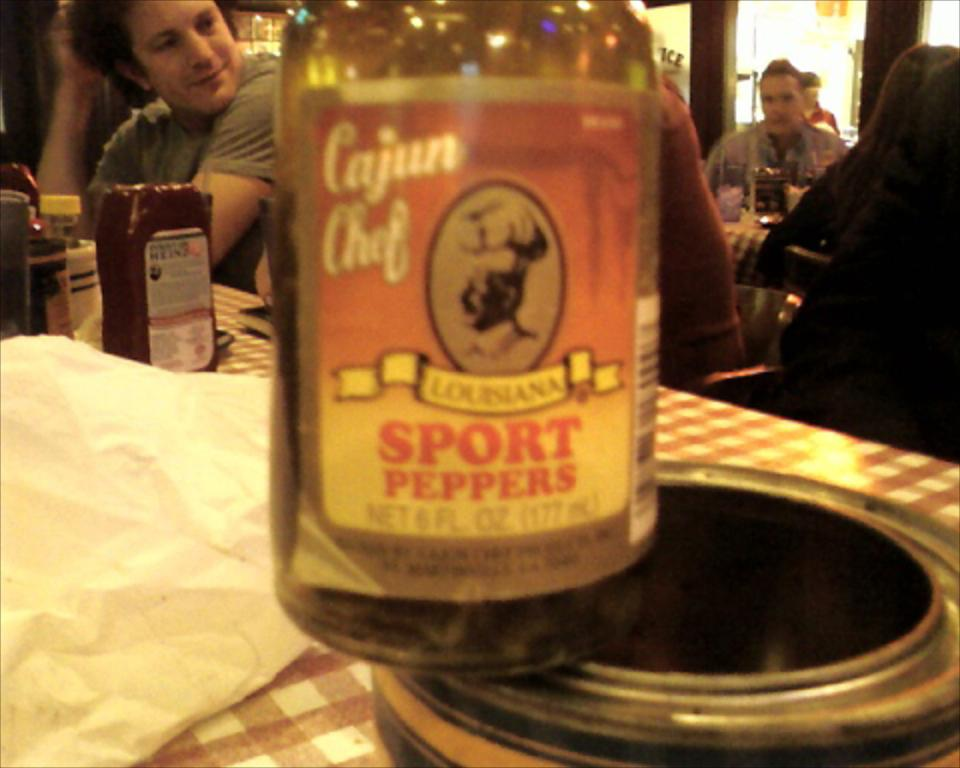Beer: (265, 0, 691, 687)
